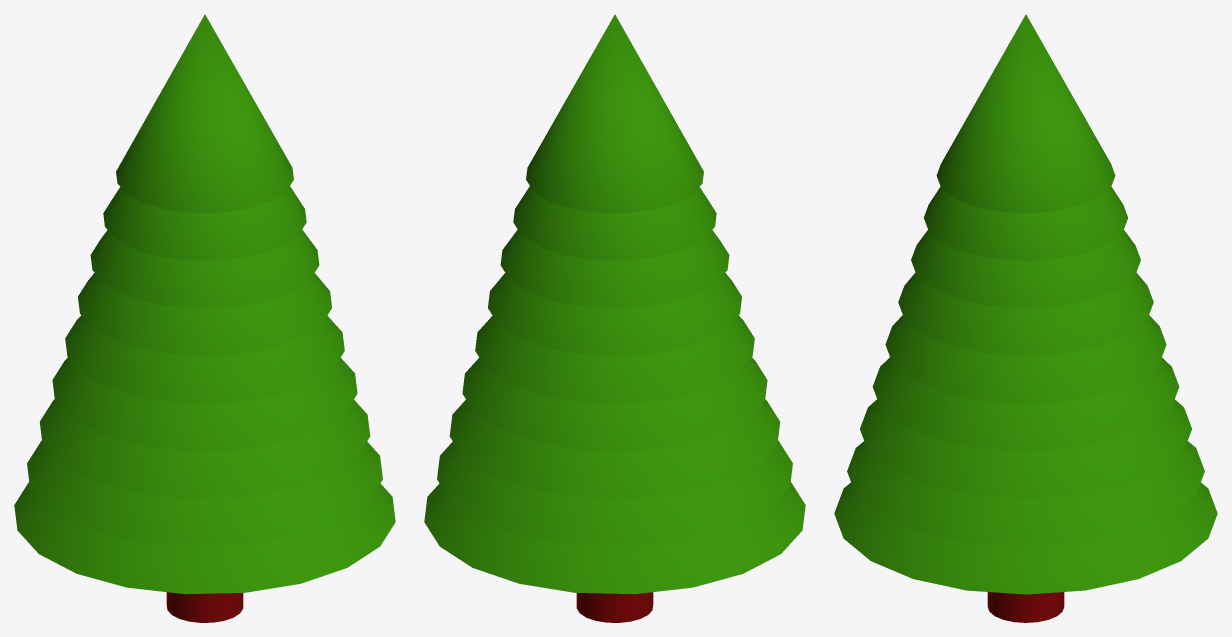
The model's file is tree4.fbx.
3 views of the same model, side by side, from view 1: azimuth 30°, elevation 25°; view 2: azimuth 150°, elevation 25°; view 3: azimuth 270°, elevation 25° (orthographic).
Visible parts, largest first — view 1: pCone9, pCone1, pCone2, pCone3, pCone4, pCone5, pCone6, pCone7, pCone8, pCylinder1; view 2: pCone9, pCone1, pCone2, pCone3, pCone4, pCone5, pCone6, pCone7, pCone8, pCylinder1; view 3: pCone9, pCone1, pCone2, pCone3, pCone4, pCone5, pCone6, pCone7, pCone8, pCylinder1.
Part boxes in pixels (x1,y1,x2,y2): pCone9: [116, 14, 293, 213]; pCone1: [14, 482, 395, 594]; pCone2: [27, 440, 382, 546]; pCone3: [39, 399, 370, 498]; pCone4: [52, 357, 357, 451]; pCone5: [65, 315, 344, 403]; pCone6: [78, 273, 331, 355]; pCone7: [90, 229, 319, 308]; pCone8: [103, 186, 306, 260]; pCylinder1: [166, 592, 243, 622]; pCone9: [526, 14, 703, 213]; pCone1: [424, 482, 805, 594]; pCone2: [437, 440, 792, 546]; pCone3: [449, 399, 780, 498]; pCone4: [462, 357, 767, 451]; pCone5: [475, 315, 754, 403]; pCone6: [488, 273, 741, 355]; pCone7: [500, 229, 729, 308]; pCone8: [513, 186, 716, 260]; pCylinder1: [576, 592, 653, 622]; pCone9: [936, 14, 1115, 213]; pCone1: [834, 482, 1217, 594]; pCone2: [847, 441, 1204, 546]; pCone3: [860, 399, 1191, 499]; pCone4: [872, 357, 1179, 451]; pCone5: [885, 315, 1166, 403]; pCone6: [898, 272, 1153, 356]; pCone7: [911, 230, 1140, 308]; pCone8: [924, 187, 1127, 260]; pCylinder1: [987, 592, 1064, 622].
Size of the model in its own units: 8.23 by 14.03 by 8.23.
